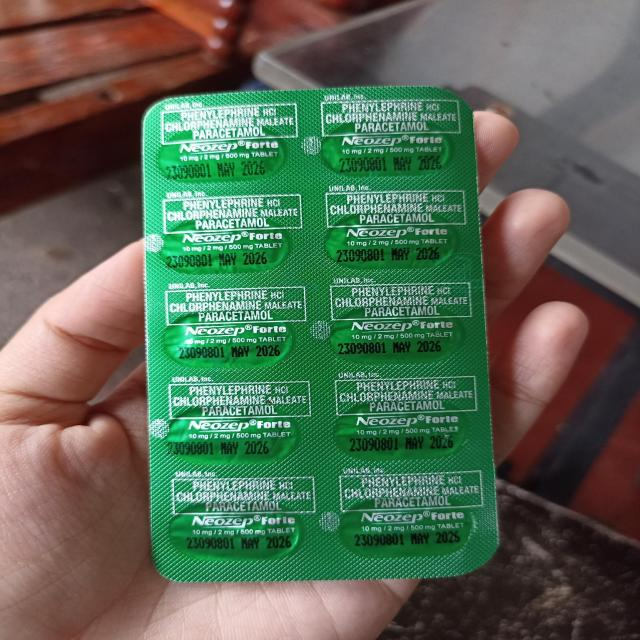Neozep_Strip: (127, 76, 524, 594)
